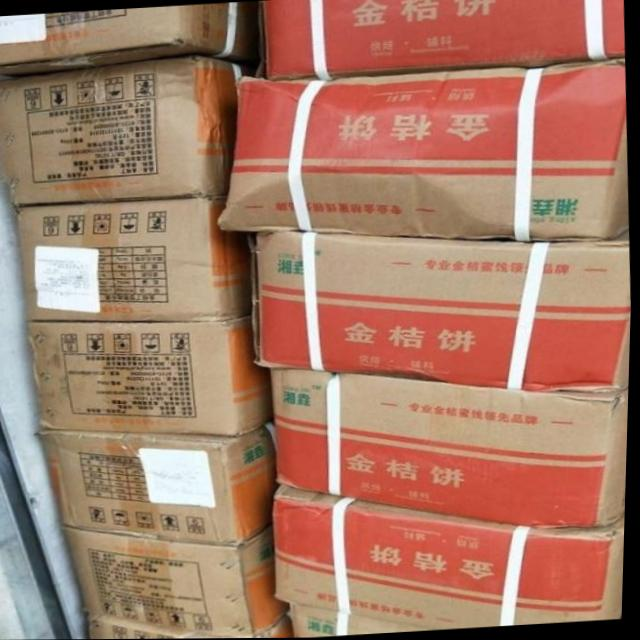box: (219, 60, 628, 243), (251, 229, 633, 394), (269, 371, 631, 529), (276, 487, 628, 630), (0, 56, 247, 207), (261, 0, 626, 81), (38, 426, 280, 547), (18, 198, 252, 322), (28, 318, 273, 436), (66, 528, 293, 638), (0, 1, 261, 78), (295, 606, 446, 638), (92, 617, 238, 639)
